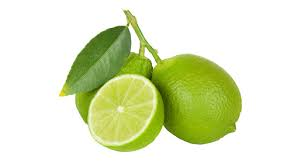Lemon: (151, 49, 241, 139), (69, 41, 149, 127)
